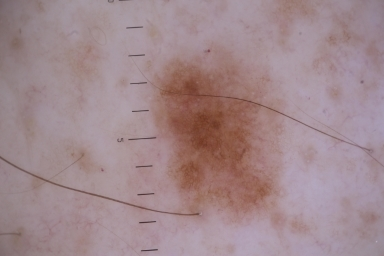nevus: (155, 47, 292, 222)
